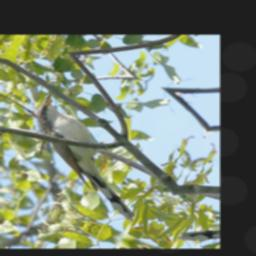Cuckoo: (2, 91, 177, 223)
